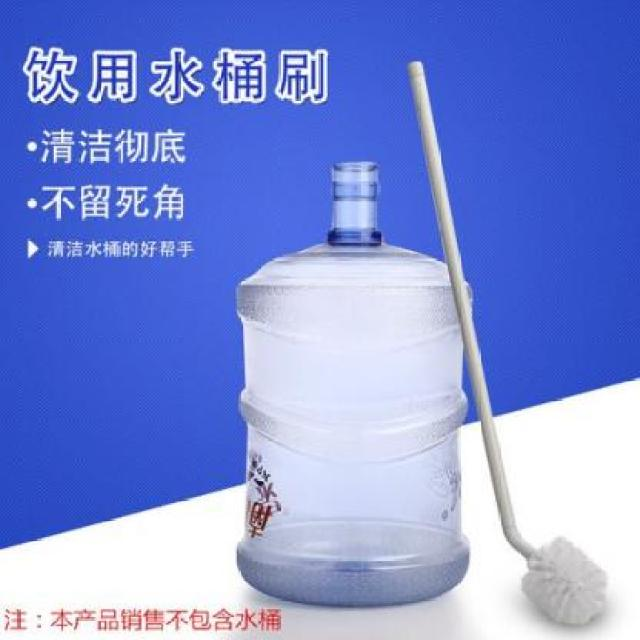coolerbottle: (230, 157, 474, 616)
